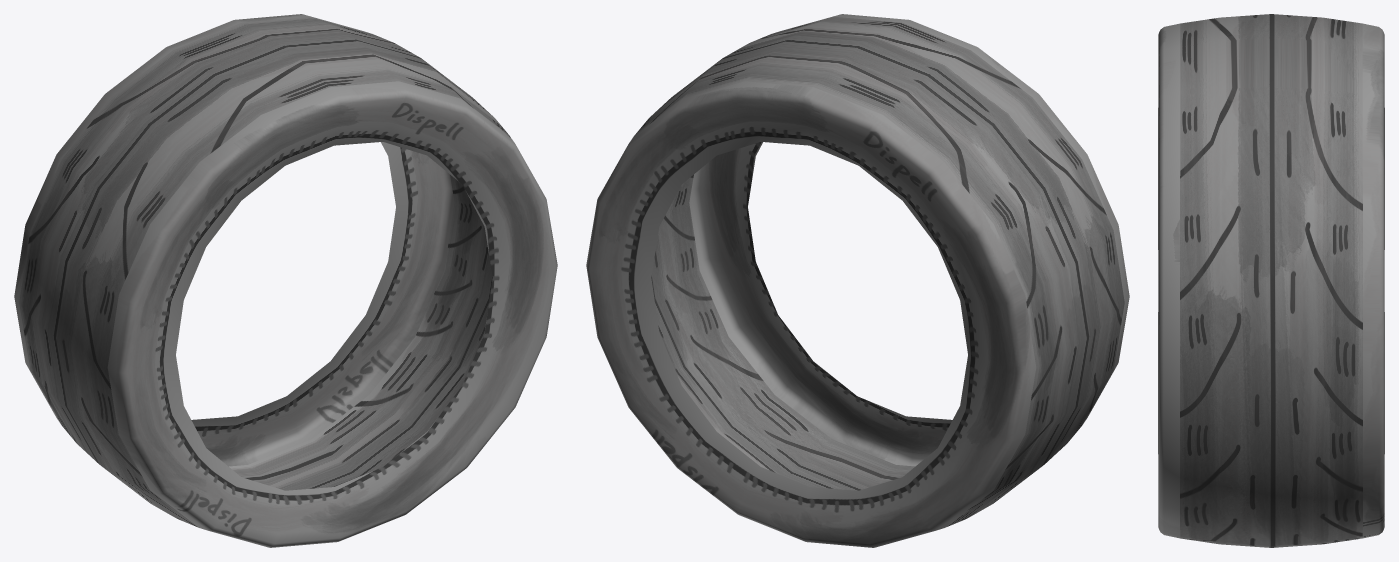
Rendered from wheel_grey.fbx.
3 renders of one model, left to right at view 1: azimuth 30°, elevation 25°; view 2: azimuth 150°, elevation 25°; view 3: azimuth 270°, elevation 25°, orthographic. The views are drawn at different scales.
Visible parts, largest first — view 1: wheel_grey; view 2: wheel_grey; view 3: wheel_grey.
Part boxes in pixels (bbox=[...]): wheel_grey: bbox=[14, 14, 557, 547]; wheel_grey: bbox=[586, 14, 1129, 547]; wheel_grey: bbox=[1158, 14, 1384, 547].
Size of the model in its own units: 0.9734 by 0.9448 by 0.4002.
